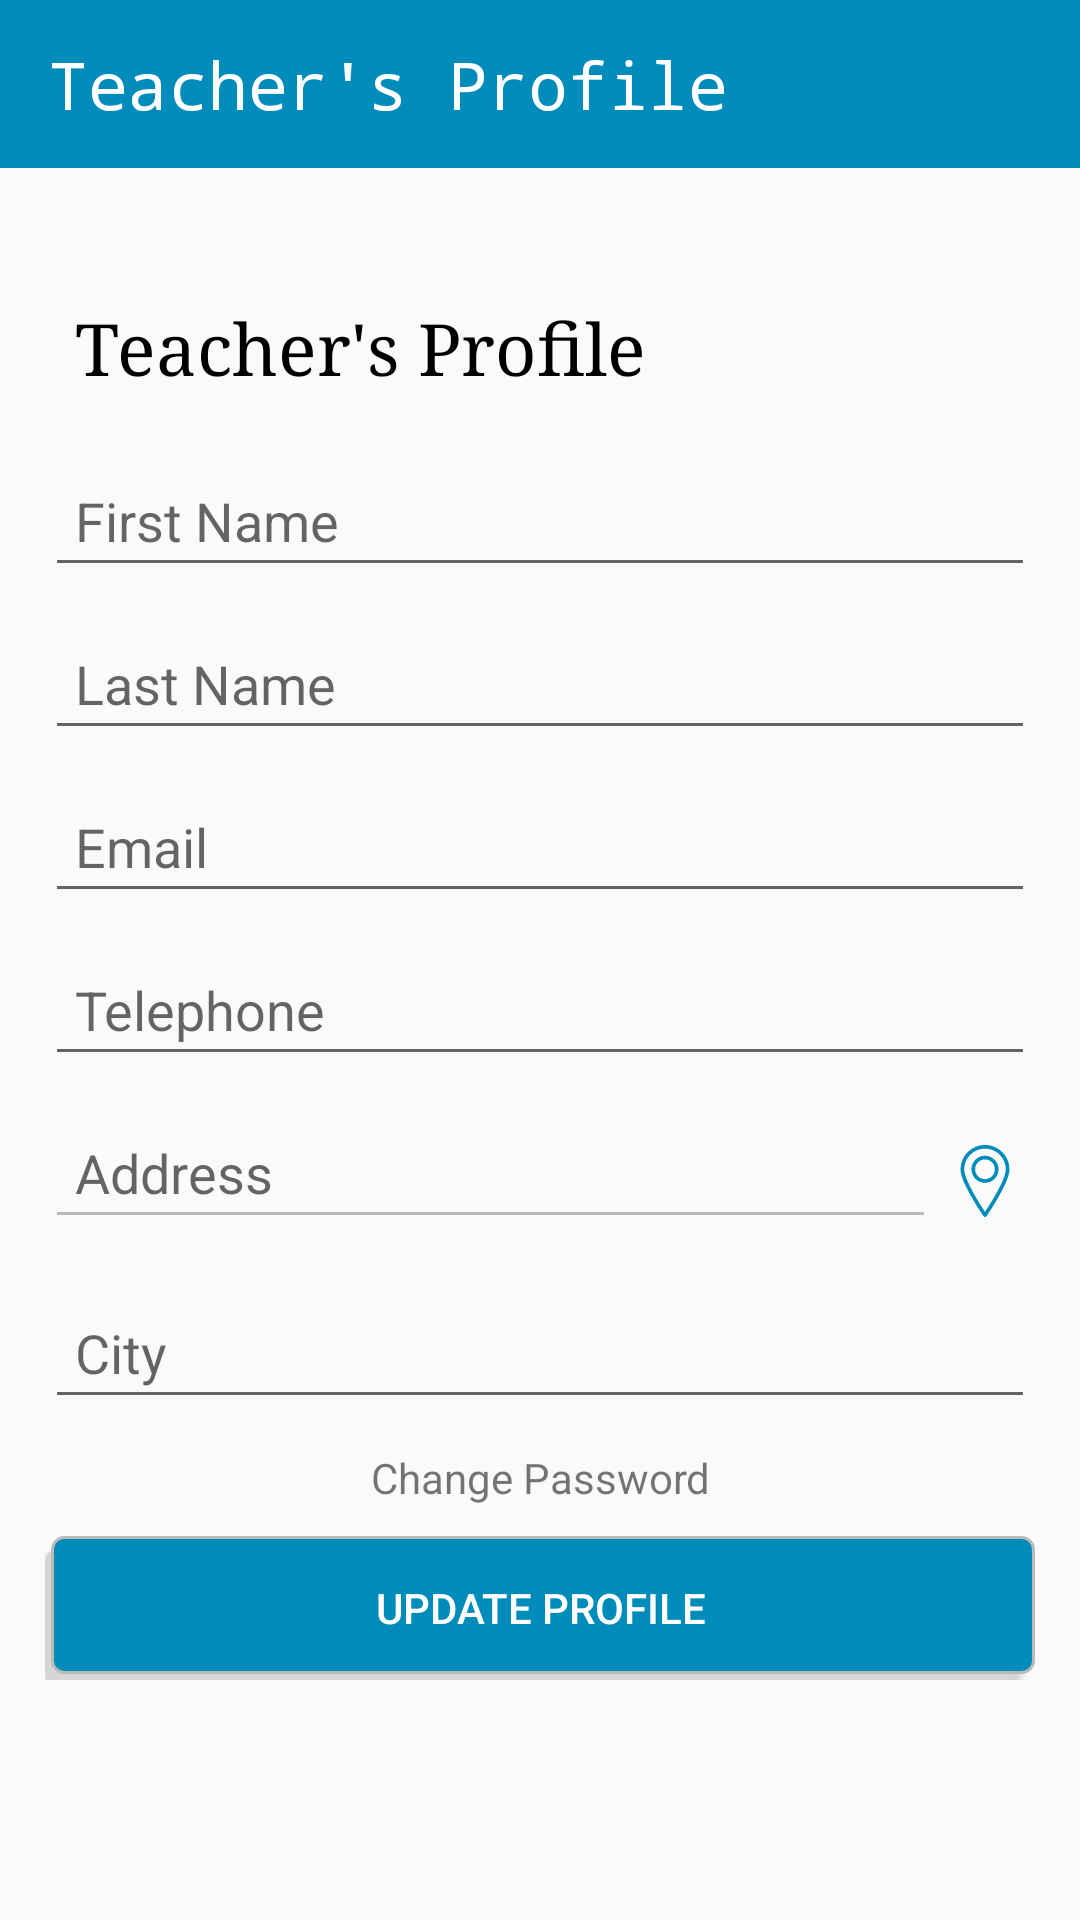

Point at icon controls on the screen. Image size 1080 x 1920, points as (x,y).
location: (985,1181)
